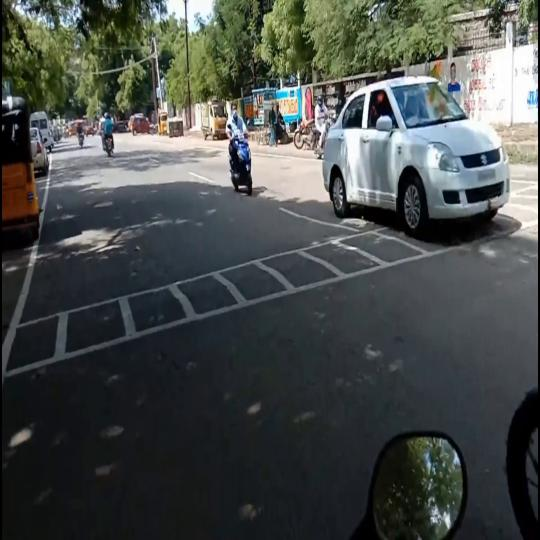Speed Bump: (1, 230, 404, 374), (510, 190, 538, 226)
